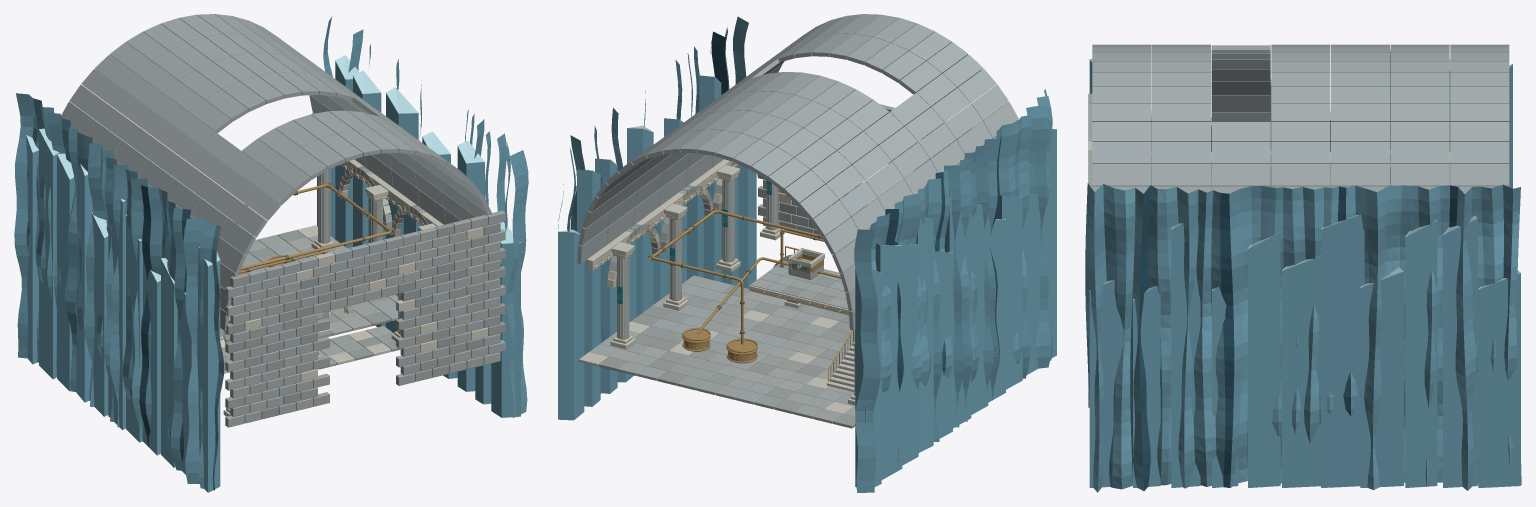
File: collection-hall-v07.glb
The picture shows the model from 3 angles, left to right: view 1: azimuth 30°, elevation 25°; view 2: azimuth 150°, elevation 25°; view 3: azimuth 270°, elevation 25°; orthographic projection. The views are drawn at different scales.
Visible parts, largest first — view 1: Interior glacial strata 11, Interior limestone 2, Interior stone tone 4 8, Interior stone tone 2 4, Interior carved edges 1, Interior stone tone 1 5, Interior stone tone 3 6, Interior stone tone 0 7, Interior frost crest 13, Interior glacial depths 12, Interior aged bronze 0; view 2: Interior glacial strata 11, Interior limestone 2, Interior carved edges 1, Interior aged bronze 0, Interior stone tone 2 4, Interior stone tone 1 5, Interior stone tone 3 6, Interior stone tone 4 8, Interior stone tone 0 7, Interior glacial depths 12; view 3: Interior glacial strata 11, Interior limestone 2, Interior glacial depths 12, Interior frost crest 13.
Part boxes in pixels (box(x1,y1,x2,y2)): Interior glacial strata 11: box(14, 17, 528, 492); Interior limestone 2: box(61, 14, 505, 423); Interior stone tone 4 8: box(220, 177, 500, 427); Interior stone tone 2 4: box(222, 176, 505, 408); Interior carved edges 1: box(220, 159, 488, 416); Interior stone tone 1 5: box(223, 166, 505, 377); Interior stone tone 3 6: box(223, 167, 488, 416); Interior stone tone 0 7: box(225, 167, 500, 419); Interior frost crest 13: box(26, 55, 520, 294); Interior glacial depths 12: box(97, 185, 190, 462); Interior aged bronze 0: box(236, 162, 430, 355); Interior glacial strata 11: box(558, 16, 1056, 492); Interior limestone 2: box(577, 14, 1018, 406); Interior carved edges 1: box(579, 121, 961, 413); Interior aged bronze 0: box(593, 145, 913, 395); Interior stone tone 2 4: box(609, 183, 861, 409); Interior stone tone 1 5: box(626, 146, 912, 428); Interior stone tone 3 6: box(611, 136, 944, 423); Interior stone tone 4 8: box(609, 129, 935, 416); Interior stone tone 0 7: box(598, 143, 950, 385); Interior glacial depths 12: box(711, 31, 1001, 461); Interior glacial strata 11: box(1085, 55, 1521, 492); Interior limestone 2: box(1088, 44, 1509, 399); Interior glacial depths 12: box(1139, 185, 1457, 490); Interior frost crest 13: box(1089, 49, 1520, 299).
Bounding box in the file's own units: 21.81 × 18.89 × 21.95.
